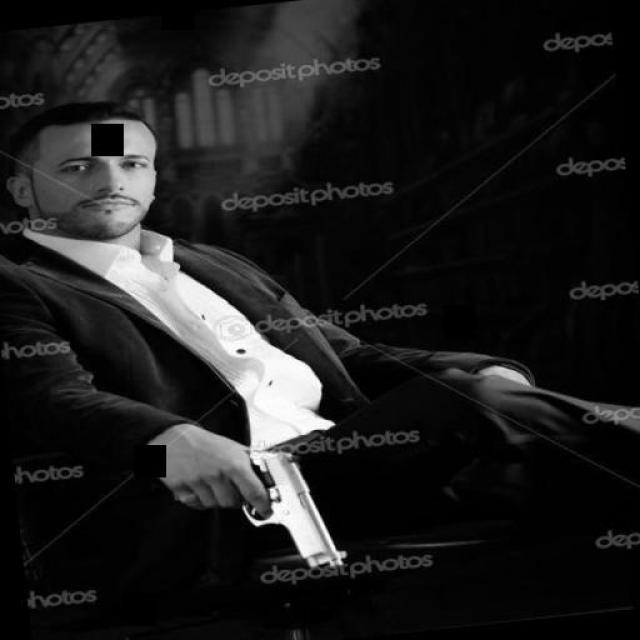gun: (150, 428, 364, 588)
